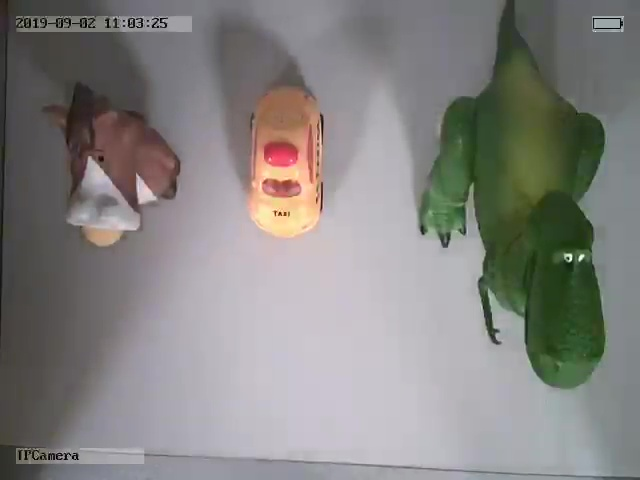car: (244, 85, 326, 236)
horse: (43, 81, 182, 250)
rex: (419, 4, 607, 389)
